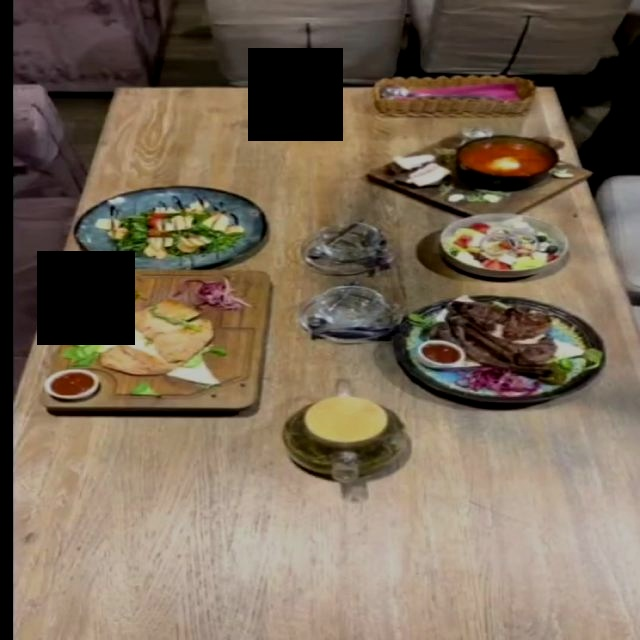meat: (32, 269, 284, 419), (390, 294, 606, 404)
salad: (71, 185, 263, 267), (438, 211, 570, 276)
soup: (364, 129, 591, 217)
tea: (279, 392, 408, 480)
